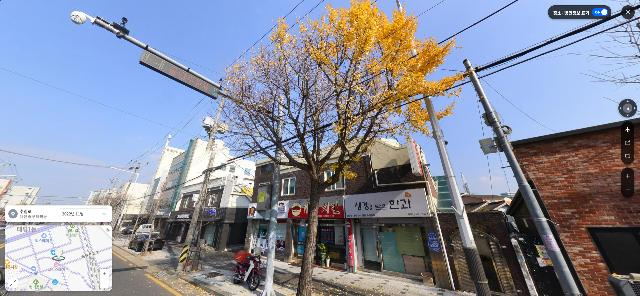ginkgo: (201, 0, 475, 296)
other: (148, 159, 192, 232), (135, 176, 166, 227), (124, 193, 143, 234), (115, 197, 132, 237)
